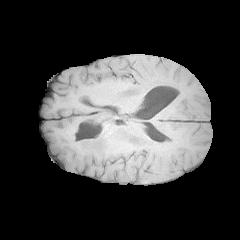glioma: (69, 108, 118, 159)
